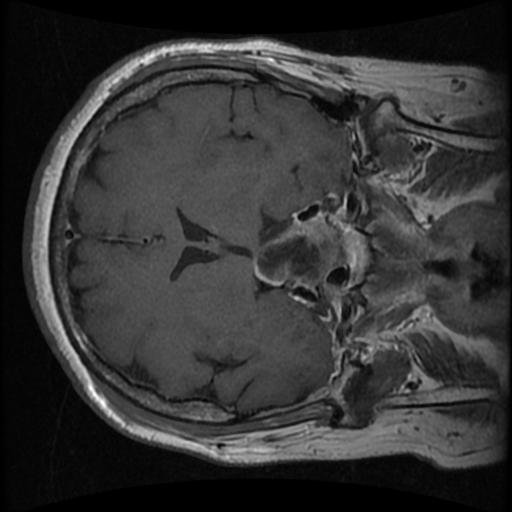pituitary tumour: (256, 211, 368, 293)
